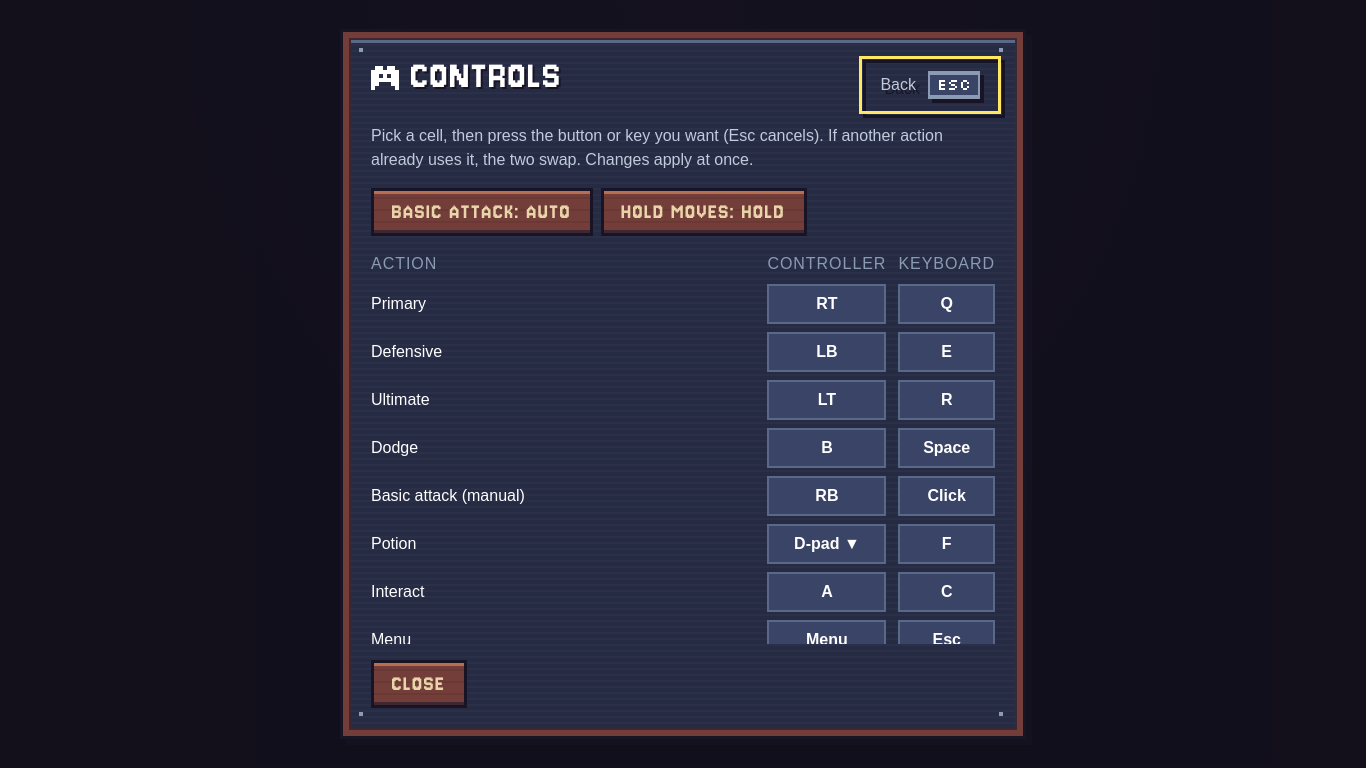
ControlsPanel › Hold moves sits beside Basic attack: Hold by default, Press to toggle once clicked, saved for this device
Click the button with test id "hold-mode-toggle" at coordinates (704, 212), box [600, 188, 806, 236]
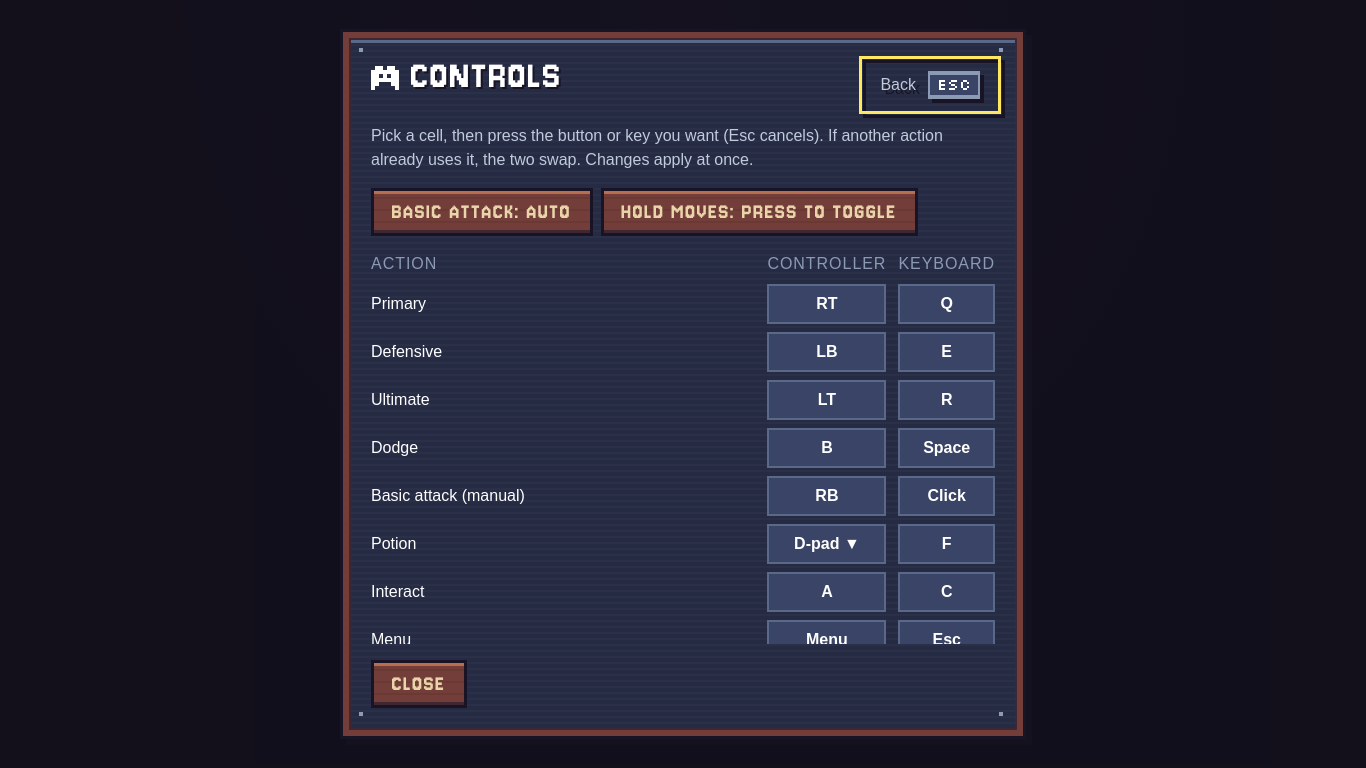
Expected: the button with test id "hold-mode-toggle" reads "Hold moves: Press to toggle", [600, 188, 918, 236]
